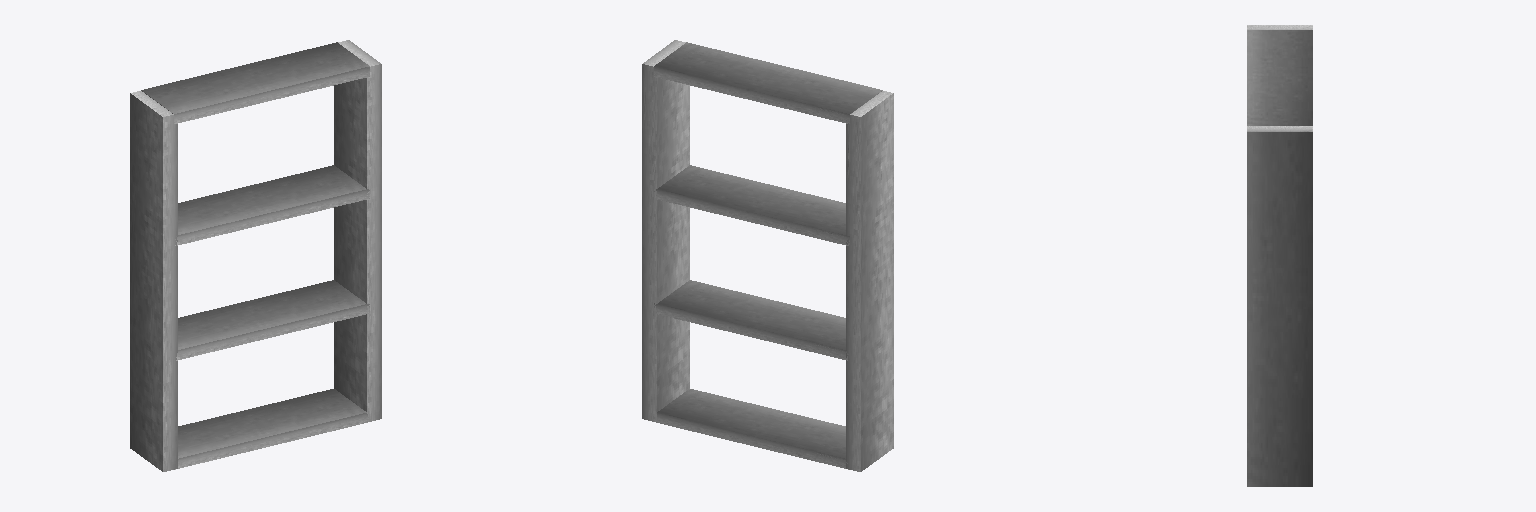
3 views of the same model, side by side, from view 1: azimuth 30°, elevation 25°; view 2: azimuth 150°, elevation 25°; view 3: azimuth 270°, elevation 25° (orthographic).
Bounding box in the file's own units: 13.2 × 20.53 × 3.45.
Materials: 1 (1 with a texture image).